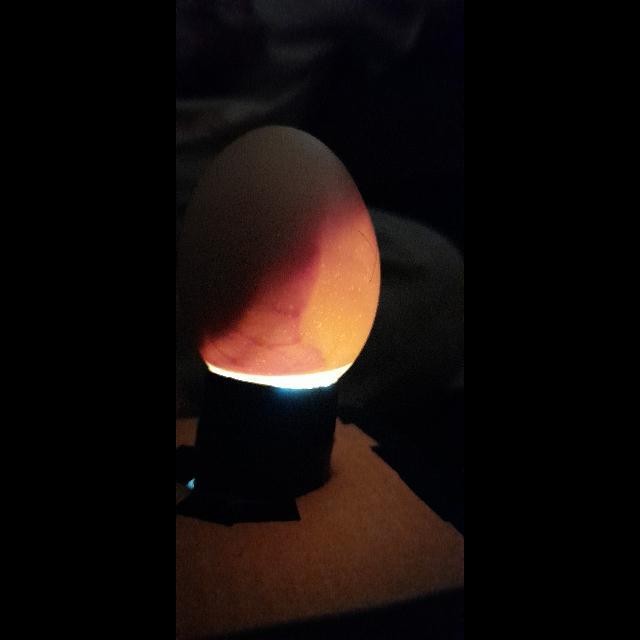Fertile: (186, 128, 382, 394)
